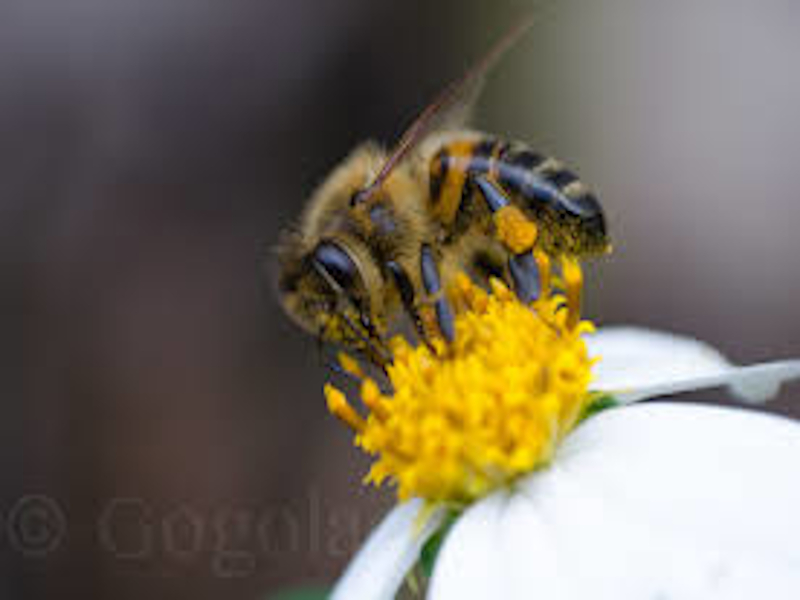abeja: (235, 20, 659, 366)
